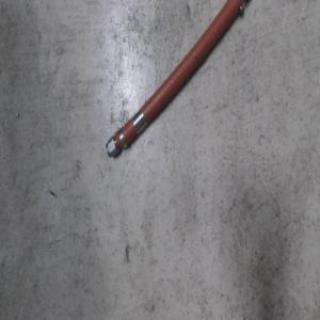Hosetrack_idkeyframe: (103, 0, 249, 160)
